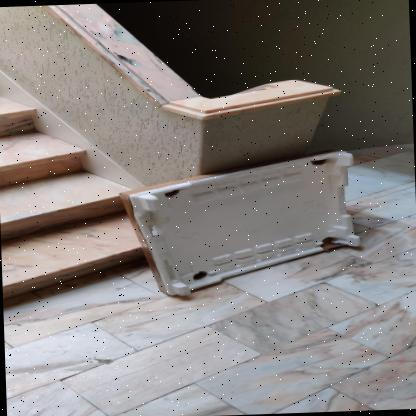Corrugated carton: (120, 150, 337, 294), (320, 238, 343, 251)
Styrofoam piece: (128, 151, 361, 296)
